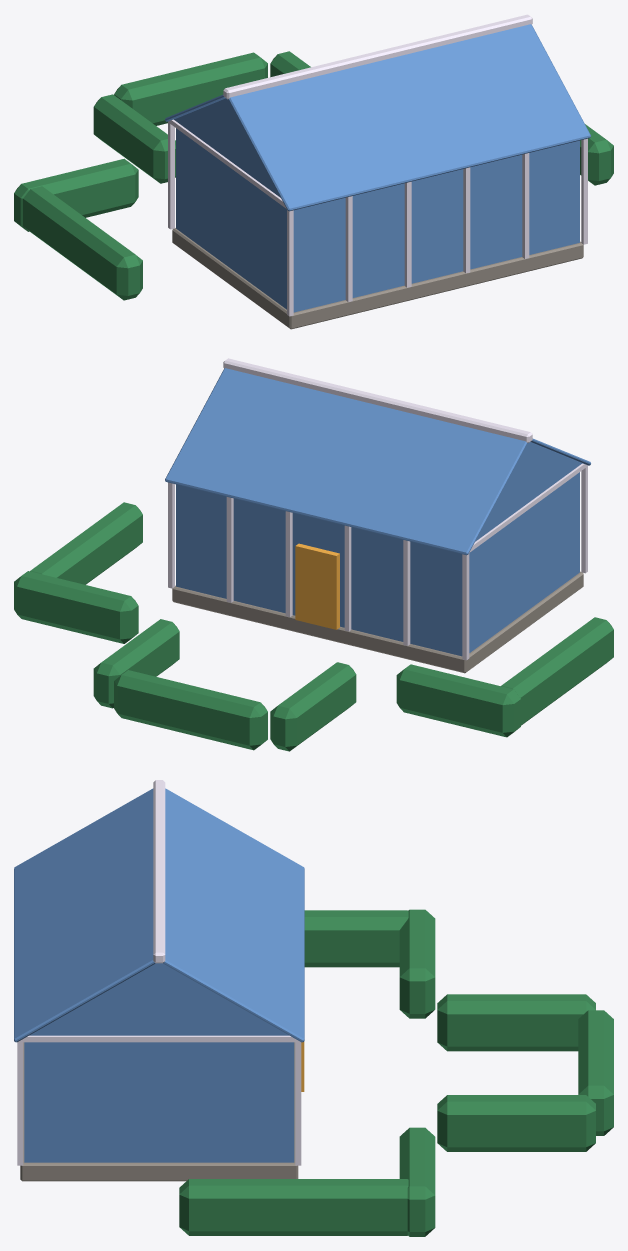
Rendered from bld_d6_b.glb.
3 views of the same model, one above another, from view 1: azimuth 30°, elevation 25°; view 2: azimuth 150°, elevation 25°; view 3: azimuth 270°, elevation 25° (orthographic). The views are drawn at different scales.
Visible parts, largest first — view 1: bld_d6_b; view 2: bld_d6_b; view 3: bld_d6_b.
Part boxes in pixels (bbox=[...]): bld_d6_b: bbox=[14, 14, 613, 329]; bld_d6_b: bbox=[14, 358, 613, 751]; bld_d6_b: bbox=[14, 780, 613, 1236].
Size of the model in its own units: 17 by 6.45 by 15.11.
